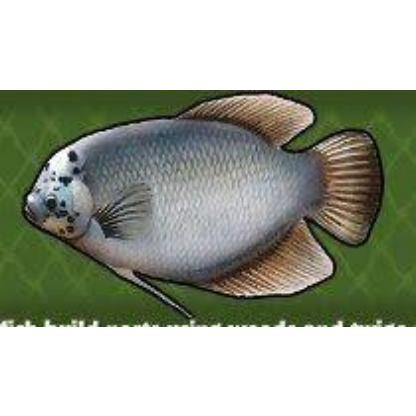gurame: (21, 89, 383, 299)
